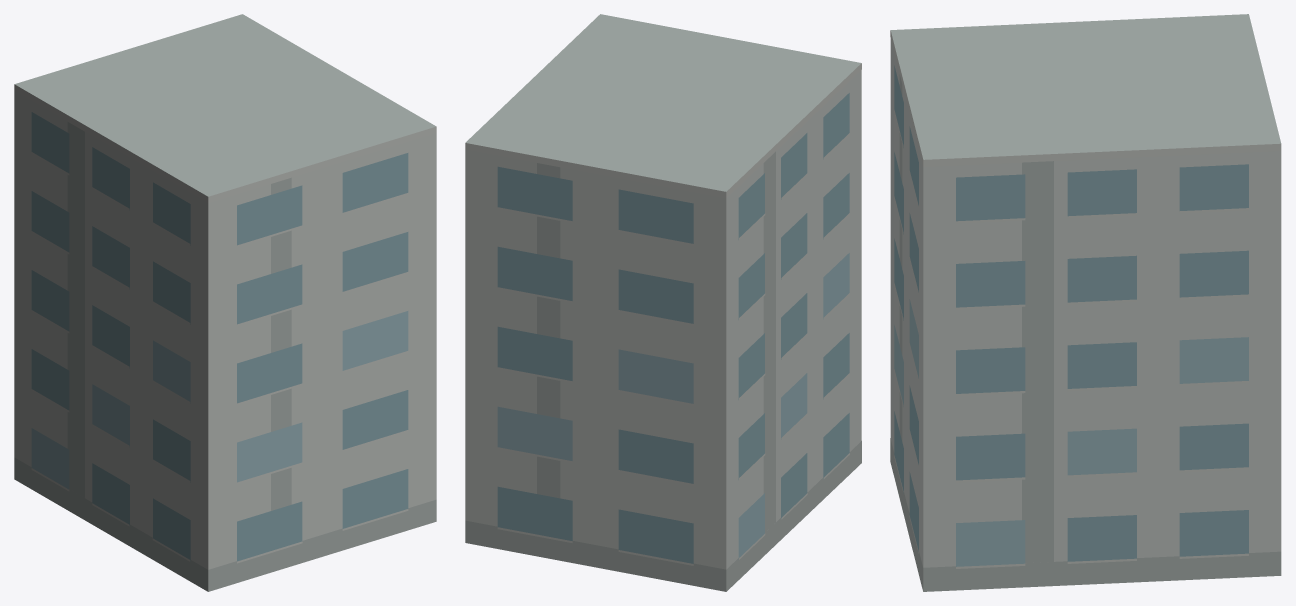
File: residential-1a1a14ce-db4f-401c-b35f-82e94402abba.glb
The picture shows the model from 3 angles, left to right: view 1: azimuth 30°, elevation 25°; view 2: azimuth 150°, elevation 25°; view 3: azimuth 270°, elevation 25°; orthographic projection. The views are drawn at different scales.
Visible parts, largest first — view 1: residential-1a1a14ce-db4f-401c-b35f-82e94402abba.tmp; view 2: residential-1a1a14ce-db4f-401c-b35f-82e94402abba.tmp; view 3: residential-1a1a14ce-db4f-401c-b35f-82e94402abba.tmp.
Part boxes in pixels (<box>): residential-1a1a14ce-db4f-401c-b35f-82e94402abba.tmp: <box>14,14,436,591</box>; residential-1a1a14ce-db4f-401c-b35f-82e94402abba.tmp: <box>465,14,861,591</box>; residential-1a1a14ce-db4f-401c-b35f-82e94402abba.tmp: <box>890,14,1281,591</box>.
Size of the model in its own units: 10.69 by 14.75 by 12.1.
